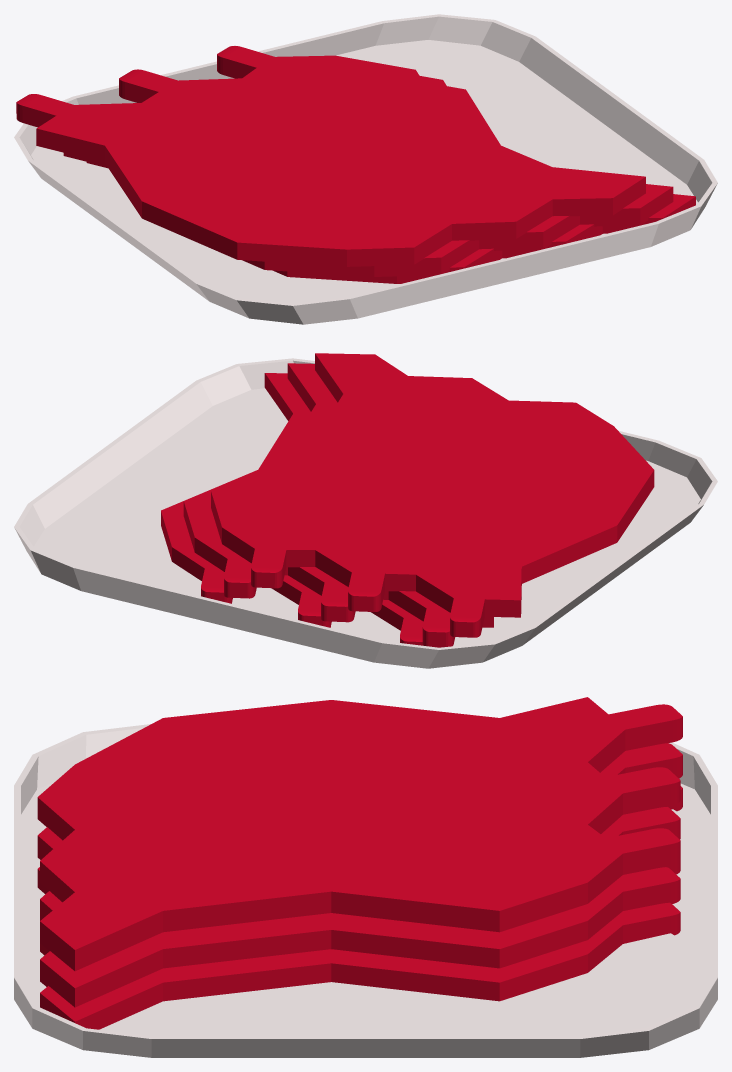
Rendered from Collectible Item.fbx_Beef_Ribs.fbx.
The picture shows the model from 3 angles, top to bottom: view 1: azimuth 30°, elevation 25°; view 2: azimuth 150°, elevation 25°; view 3: azimuth 270°, elevation 25°; orthographic projection. The views are drawn at different scales.
Visible parts, largest first — view 1: Beef Ribs Tray; view 2: Beef Ribs Tray; view 3: Beef Ribs Tray.
Part boxes in pixels (<box>): Beef Ribs Tray: <box>14,14,717,324</box>; Beef Ribs Tray: <box>14,353,717,668</box>; Beef Ribs Tray: <box>14,697,717,1057</box>.
Bounding box in the file's own units: 4.87 × 0.4421 × 4.6.
2 materials, 2 textured.
